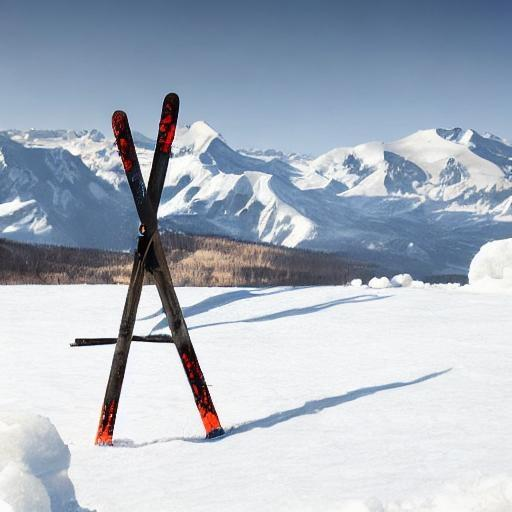Skis: (106, 106, 230, 445), (92, 90, 186, 450)
